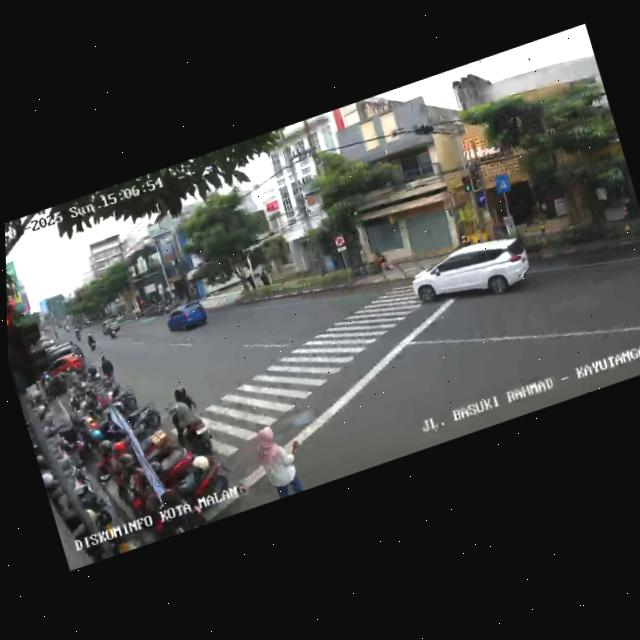car: (407, 224, 538, 325), (35, 336, 88, 385), (160, 294, 211, 341), (198, 276, 249, 315)
motorcycle: (163, 380, 217, 461), (102, 315, 123, 341), (83, 329, 97, 349)
person: (245, 410, 308, 502)
